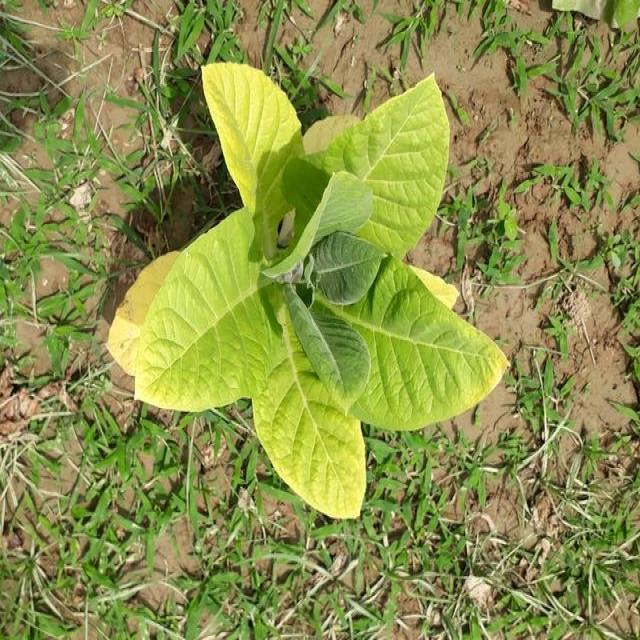crop: (119, 59, 510, 512)
